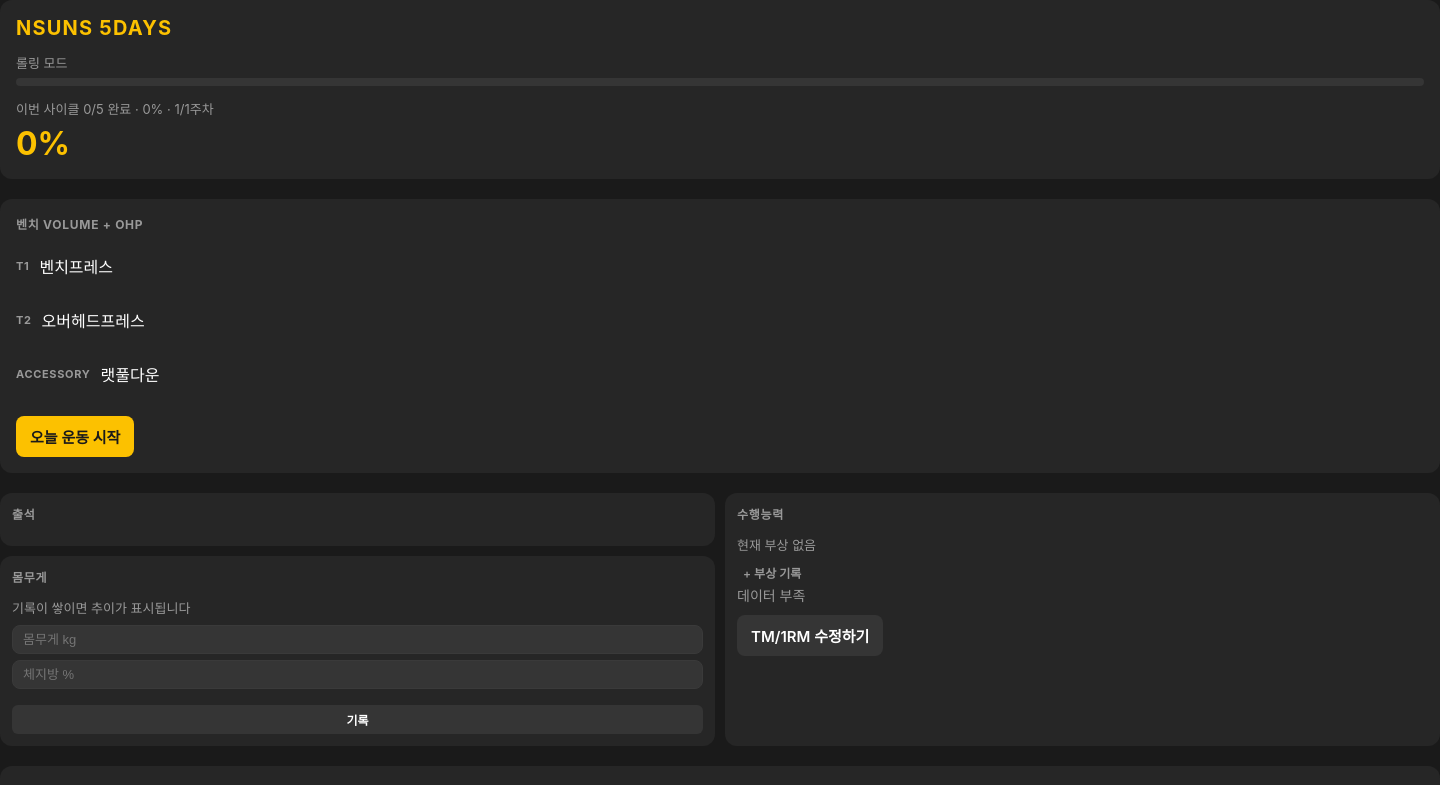
it: HomeScreen › 항목1 — TM 수정 버튼 가시성 › btn-secondary 클래스 + 'TM/1RM 수정하기' 라벨, 펼치면 'TM/1RM 수정 접기'로 바뀐다
Click the button with test id "tm-edit-toggle" at (810, 636), box [737,615,883,656]
(page scrolled)
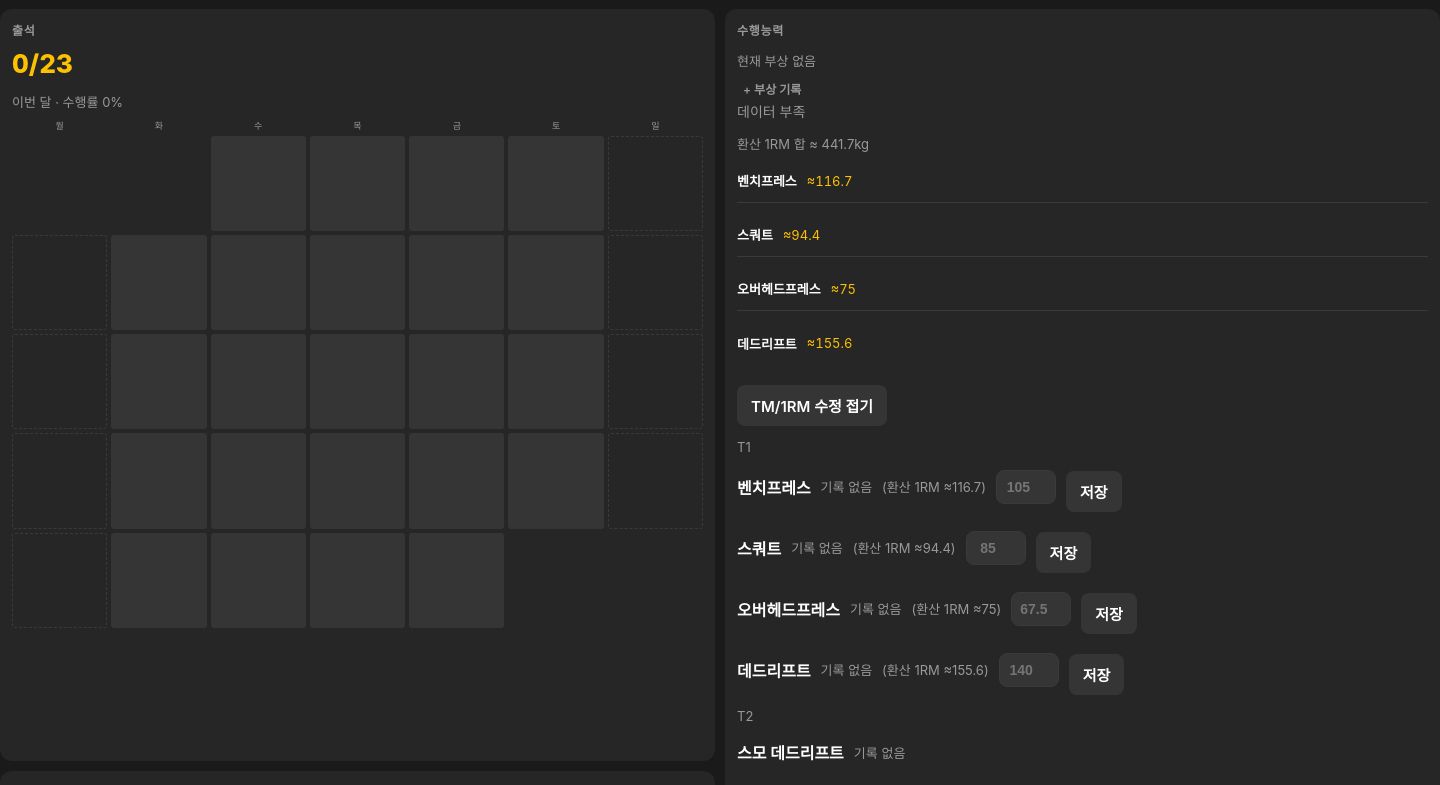
Result: the button with test id "tm-edit-toggle" reads "TM/1RM 수정 접기" at [737,385,887,426]
